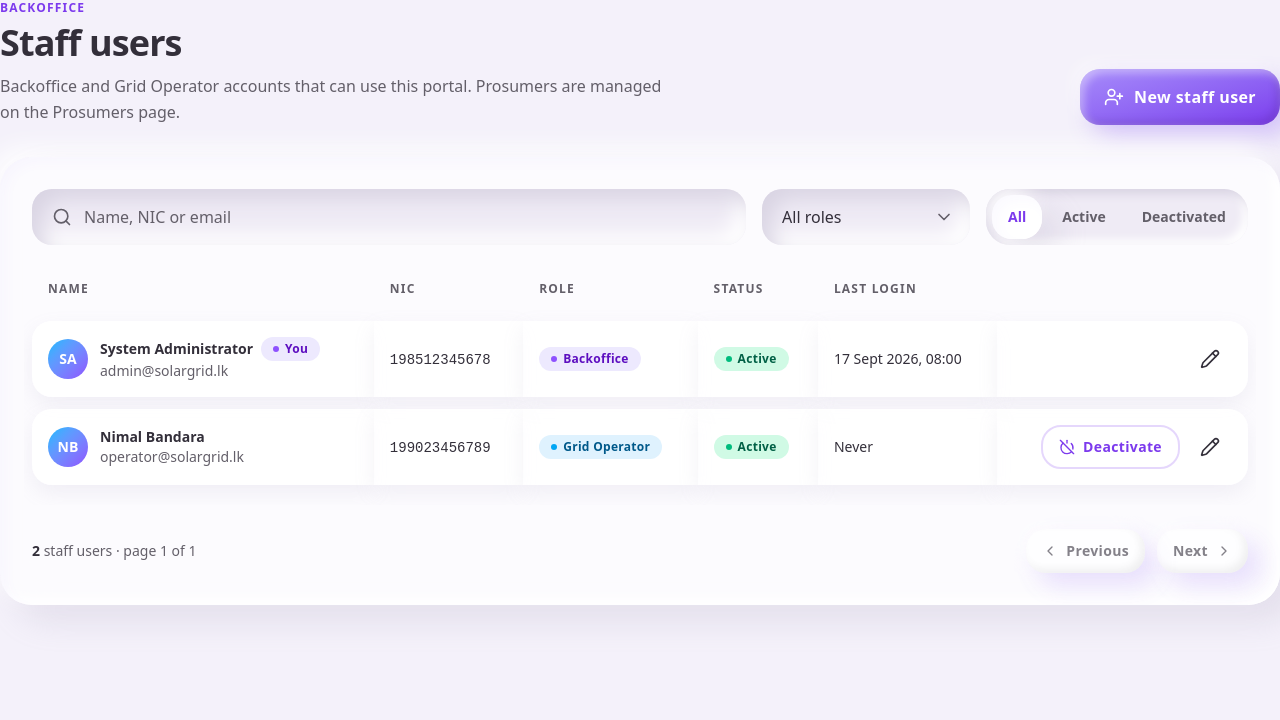
Test: UsersPage › deactivates another user after confirmation
Check: the text "Nimal Bandara" is shown, box [100,427,205,446]
Click the button "Deactivate" at (1111, 447), box [1041,425,1180,469]
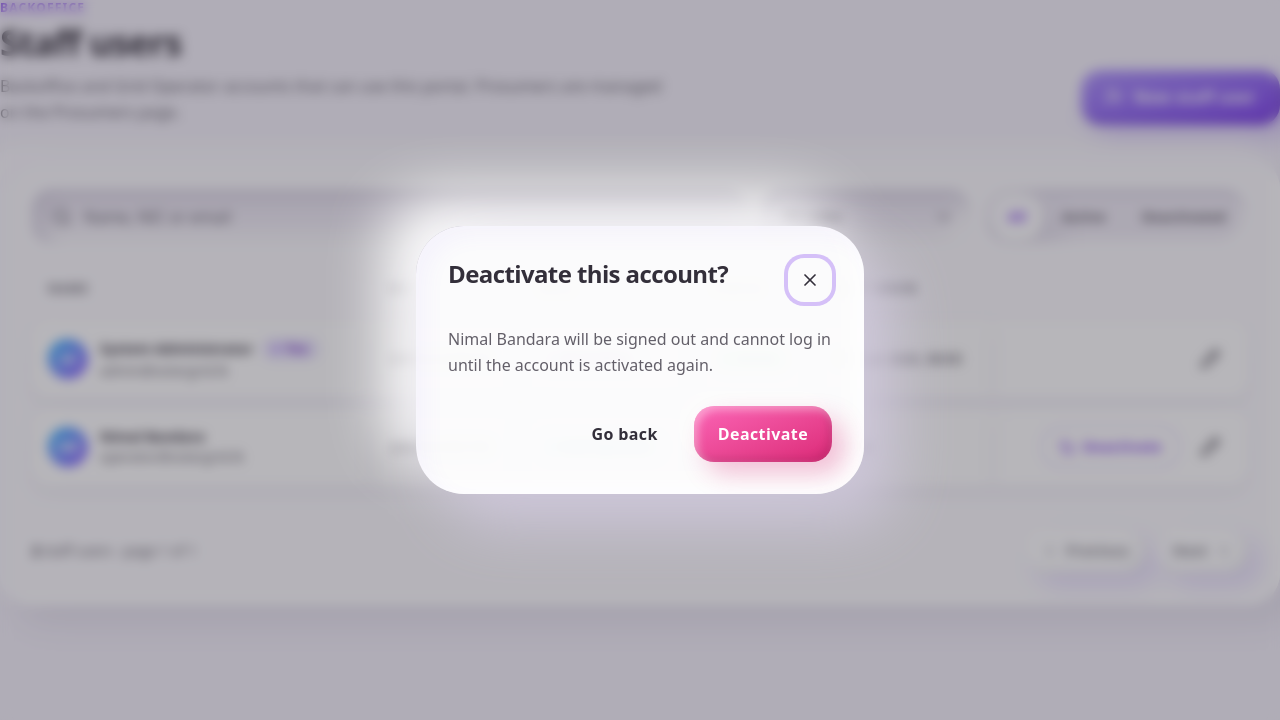
Click the button "Deactivate" at (763, 434), box [694,406,832,462]
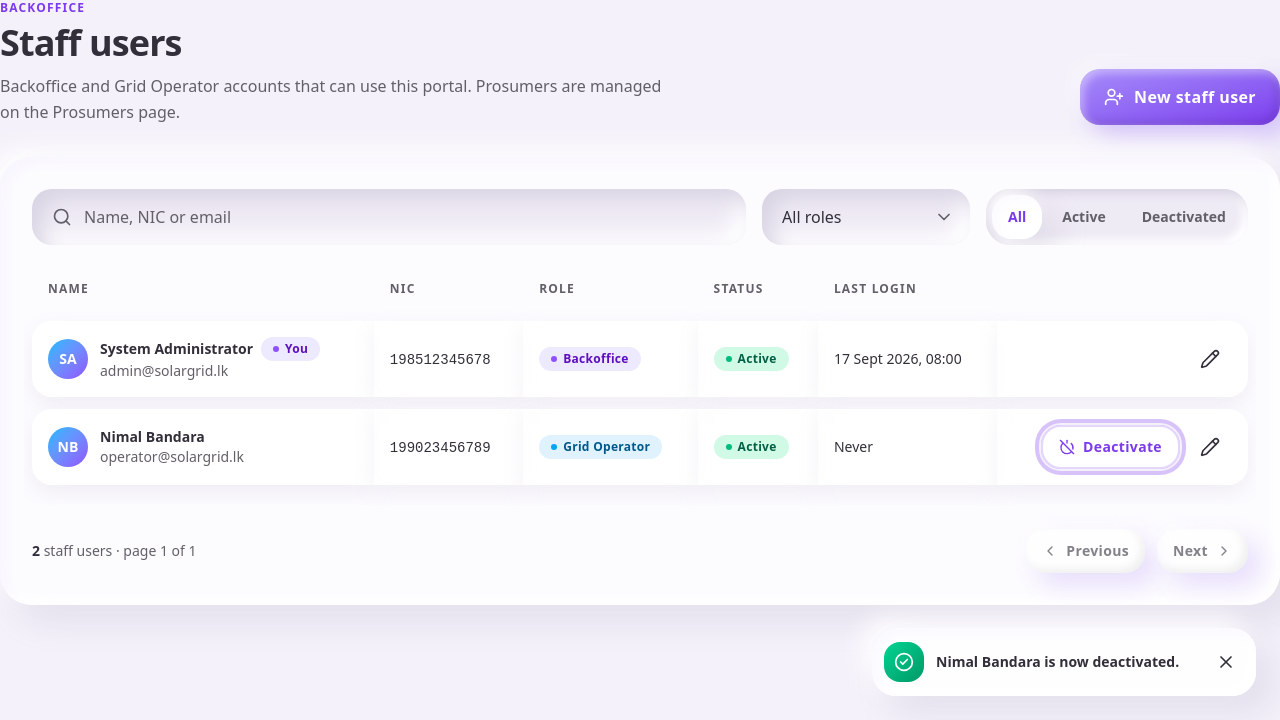
Check: the text "Nimal Bandara is now deactivated." is shown, box [936,652,1192,672]
